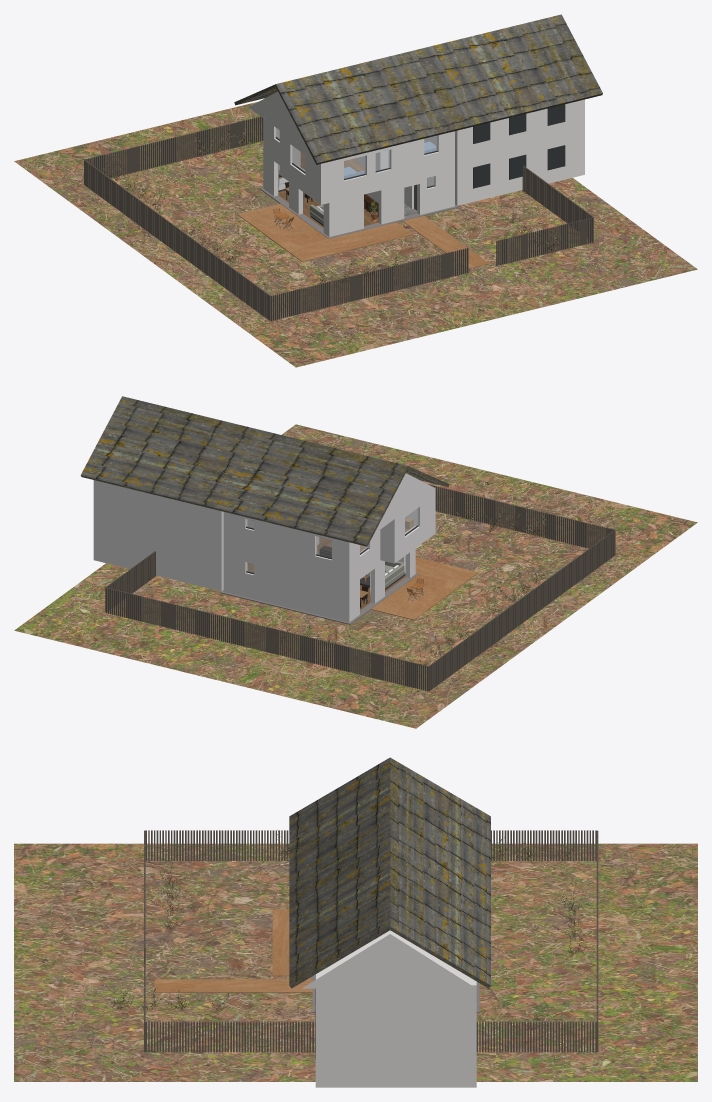
File: house_walk.glb
3 renders of one model, top to bottom at view 1: azimuth 30°, elevation 25°; view 2: azimuth 150°, elevation 25°; view 3: azimuth 270°, elevation 25°, orthographic. The views are drawn at different scales.
Parts seen in each view (by area): view 1: Lawn, Roof, RoofN, omietka, NeighbourGF, TerraceW, TerraceS, Path, sklo, Gable, poter, Plinth (+1 smaller); view 2: Lawn, Roof, omietka, RoofN, NeighbourGF, TerraceW, Gable, poter, TerraceS, Plinth, sklo; view 3: Lawn, Roof, NeighbourGF, RoofN, GableN.001, Path, TerraceS.
Part boxes in pixels (x1=…): Lawn: x1=14, y1=101, x2=697, y2=367; Roof: x1=234, y1=47, x2=467, y2=164; RoofN: x1=427, y1=14, x2=602, y2=127; omietka: x1=263, y1=118, x2=454, y2=236; NeighbourGF: x1=455, y1=99, x2=584, y2=205; TerraceW: x1=237, y1=203, x2=328, y2=249; TerraceS: x1=285, y1=222, x2=413, y2=261; Path: x1=402, y1=216, x2=488, y2=268; sklo: x1=276, y1=128, x2=437, y2=186; Gable: x1=249, y1=91, x2=308, y2=150; poter: x1=263, y1=144, x2=454, y2=204; Plinth: x1=259, y1=187, x2=458, y2=238; Lawn: x1=14, y1=424, x2=697, y2=728; Roof: x1=215, y1=429, x2=449, y2=546; omietka: x1=223, y1=489, x2=435, y2=622; RoofN: x1=80, y1=396, x2=256, y2=509; NeighbourGF: x1=93, y1=480, x2=223, y2=591; TerraceW: x1=371, y1=574, x2=461, y2=619; Gable: x1=374, y1=473, x2=435, y2=532; poter: x1=223, y1=526, x2=435, y2=582; TerraceS: x1=415, y1=557, x2=478, y2=584; Plinth: x1=220, y1=573, x2=418, y2=624; sklo: x1=246, y1=508, x2=417, y2=572; Lawn: x1=14, y1=843, x2=697, y2=1081; Roof: x1=289, y1=757, x2=490, y2=905; NeighbourGF: x1=315, y1=930, x2=476, y2=1087; RoofN: x1=289, y1=847, x2=490, y2=988; GableN.001: x1=302, y1=934, x2=476, y2=988; Path: x1=154, y1=979, x2=312, y2=992; TerraceS: x1=272, y1=909, x2=289, y2=976.
Bounding box in the file's own units: 29.3 × 9.36 × 34.
34 materials, 32 textured.
